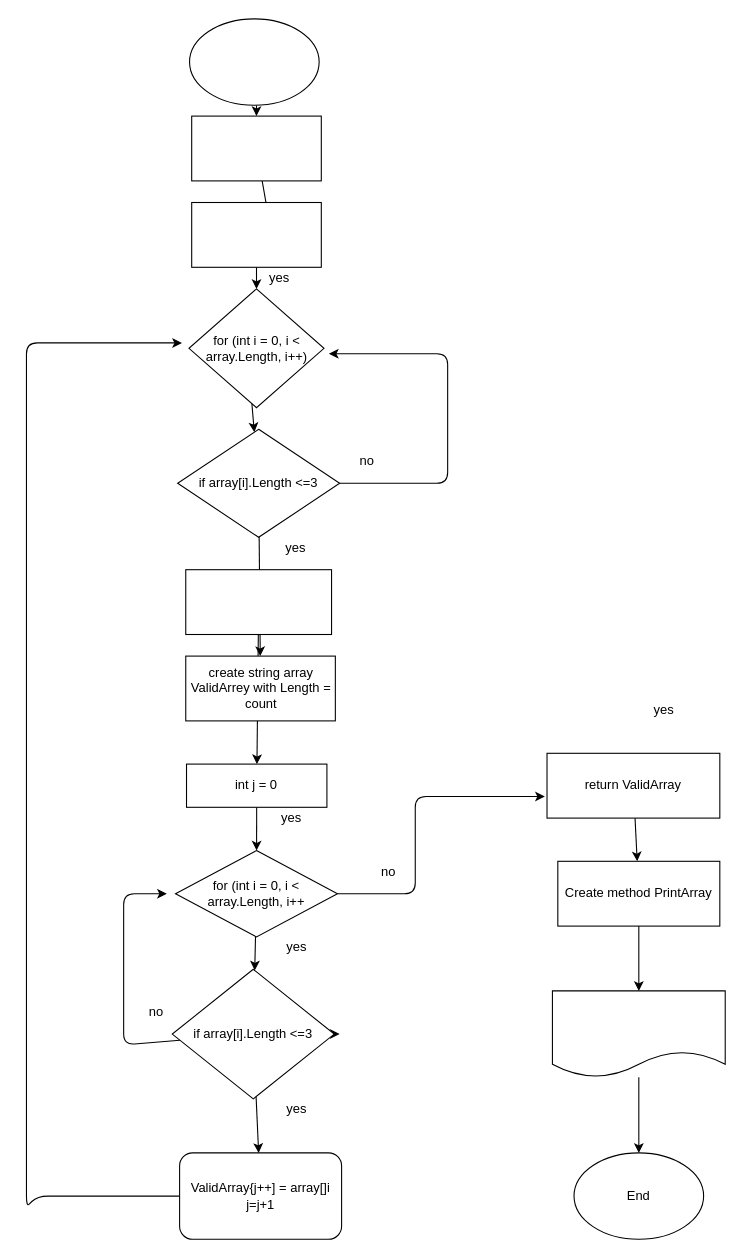
The diagram is 744 pixels wide and 1258 high, and some of its shapes have lost their labels. Each missing label, with the centre of its shape:
"count = cont+1" goes at point (258, 601).
"Create and fill initial string array (arr)" goes at point (256, 148).
"Create Method GetValidArray" goes at point (256, 234).
"PrintArray(arr) PrintArray(GetValidArray(arr)" goes at point (638, 1033).
"Start" goes at point (253, 61).
